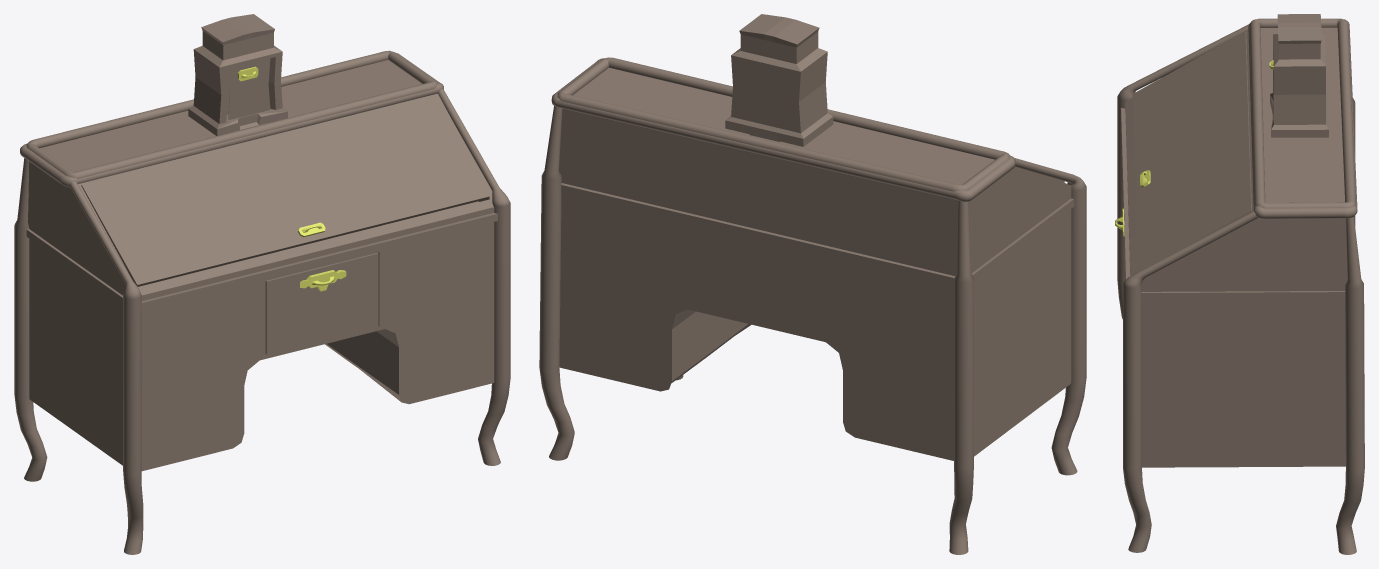
The model's file is obj_Desk.fbx.
The picture shows the model from 3 angles, left to right: view 1: azimuth 30°, elevation 25°; view 2: azimuth 150°, elevation 25°; view 3: azimuth 270°, elevation 25°; orthographic projection. The views are drawn at different scales.
Visible parts, largest first — view 1: Desk, DeskValve, Drawer, HomeValve; view 2: Desk; view 3: Desk, DeskValve.
Part boxes in pixels (box(x1,y1,x2,y2)): Desk: box(14, 14, 510, 554); DeskValve: box(81, 96, 489, 286); Drawer: box(265, 253, 378, 354); HomeValve: box(228, 58, 270, 120); Desk: box(539, 14, 1086, 554); Desk: box(1117, 14, 1364, 554); DeskValve: box(1132, 31, 1251, 271).
Size of the model in its own units: 411 by 422 by 220.
